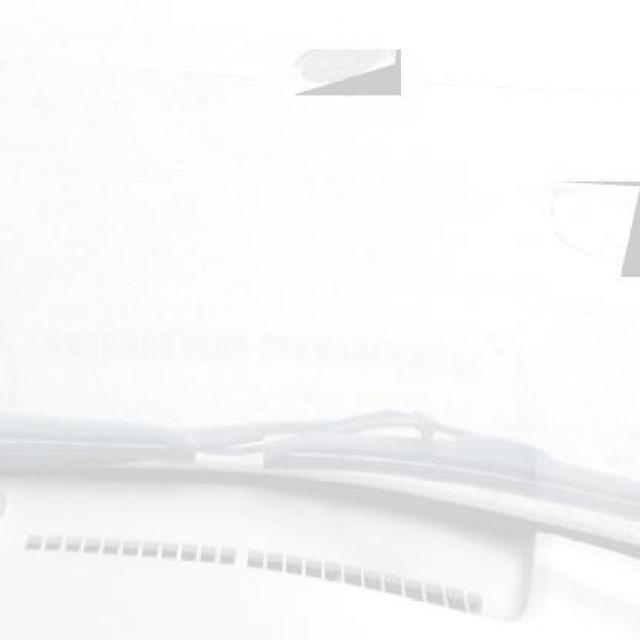Manhole: (554, 181, 640, 277), (295, 50, 400, 96)
